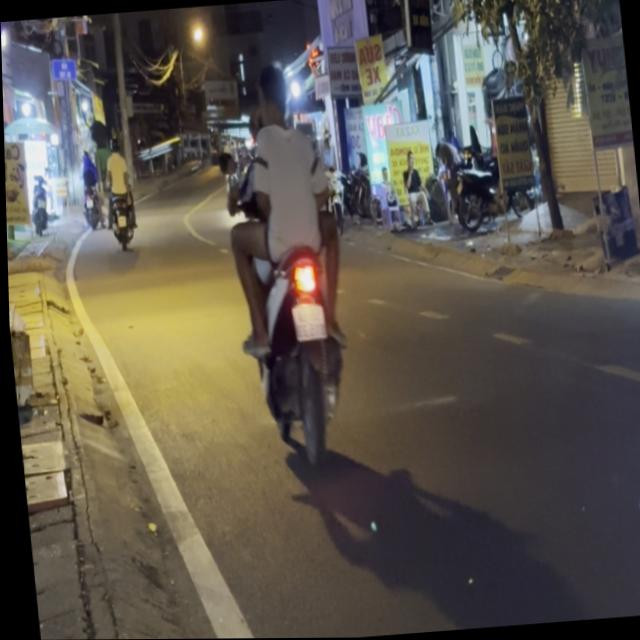licenseplate: (210, 51, 363, 475)
motorcyclist: (253, 59, 292, 128)
nohelmet: (291, 301, 325, 339)
